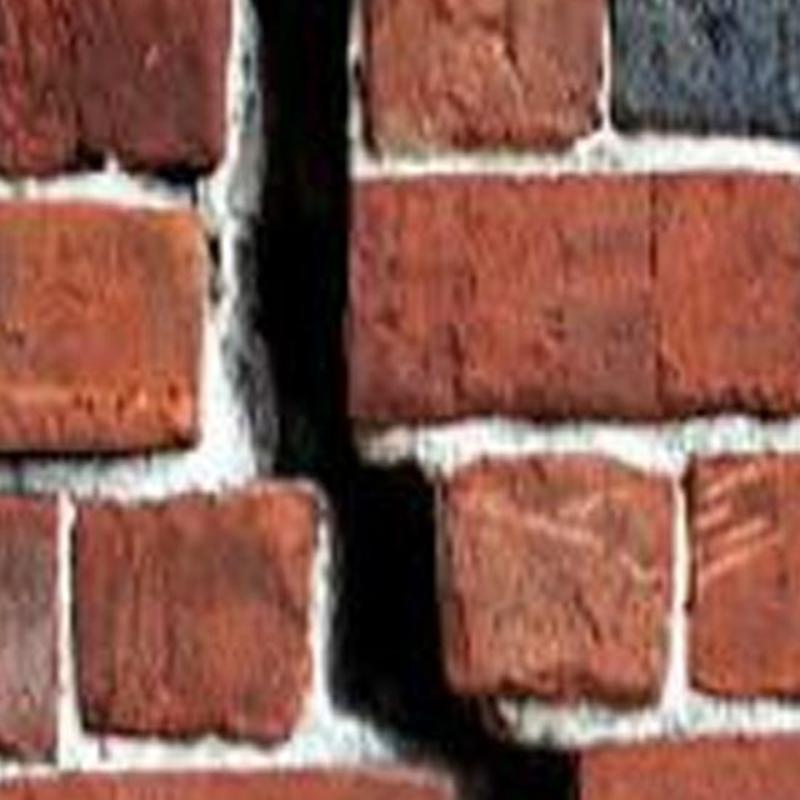pothole: (257, 0, 573, 800)
